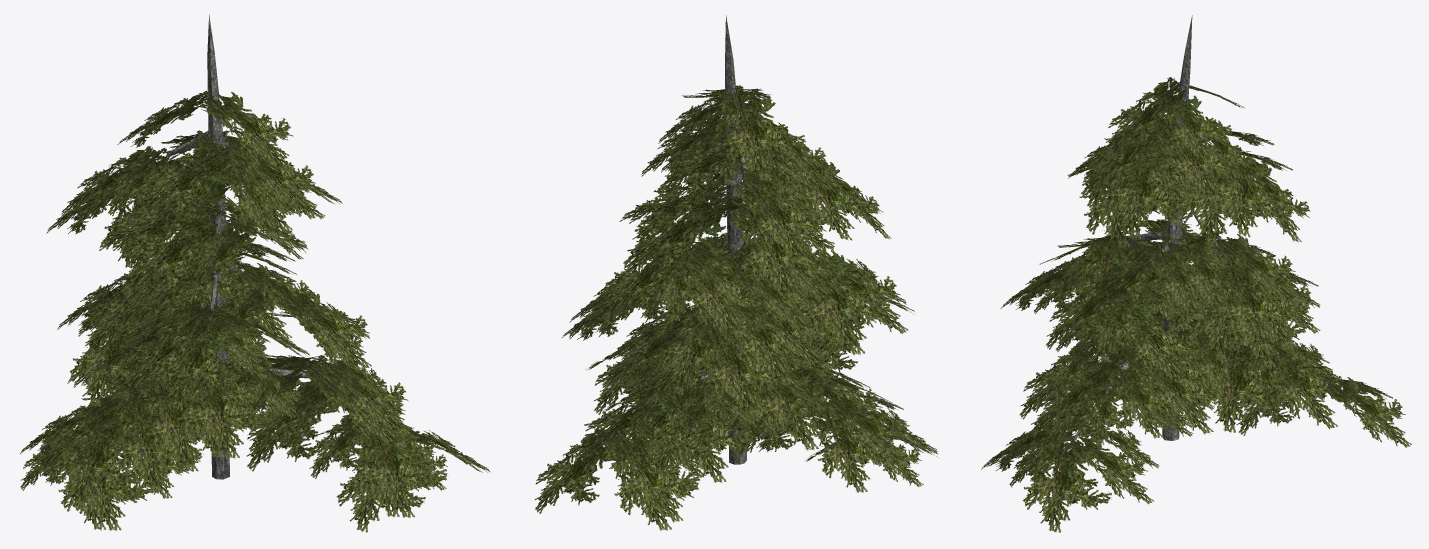
The model's file is tree3.obj.
3 views of the same model, side by side, from view 1: azimuth 30°, elevation 25°; view 2: azimuth 150°, elevation 25°; view 3: azimuth 270°, elevation 25° (orthographic). The views are drawn at different scales.
Parts seen in each view (by area): view 1: 5_pngaaa.com-2004453, 5_bark-2; view 2: 5_pngaaa.com-2004453, 5_bark-2; view 3: 5_pngaaa.com-2004453, 5_bark-2.
Part boxes in pixels (x1,y1,x2,y2): 5_pngaaa.com-2004453: (20, 90, 490, 532); 5_bark-2: (60, 14, 369, 479); 5_pngaaa.com-2004453: (535, 85, 938, 530); 5_bark-2: (626, 15, 881, 465); 5_pngaaa.com-2004453: (981, 77, 1411, 532); 5_bark-2: (1065, 15, 1317, 451).
Size of the model in its own units: 8.14 by 8.81 by 8.16.
